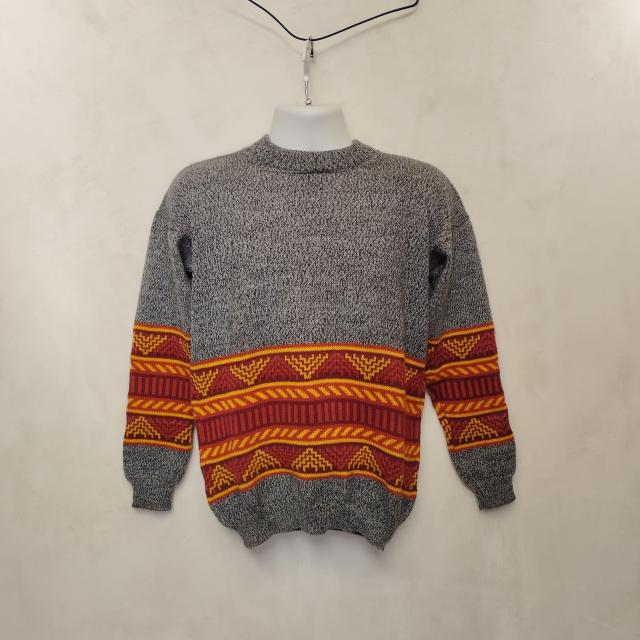Chompa: (122, 121, 518, 551)
